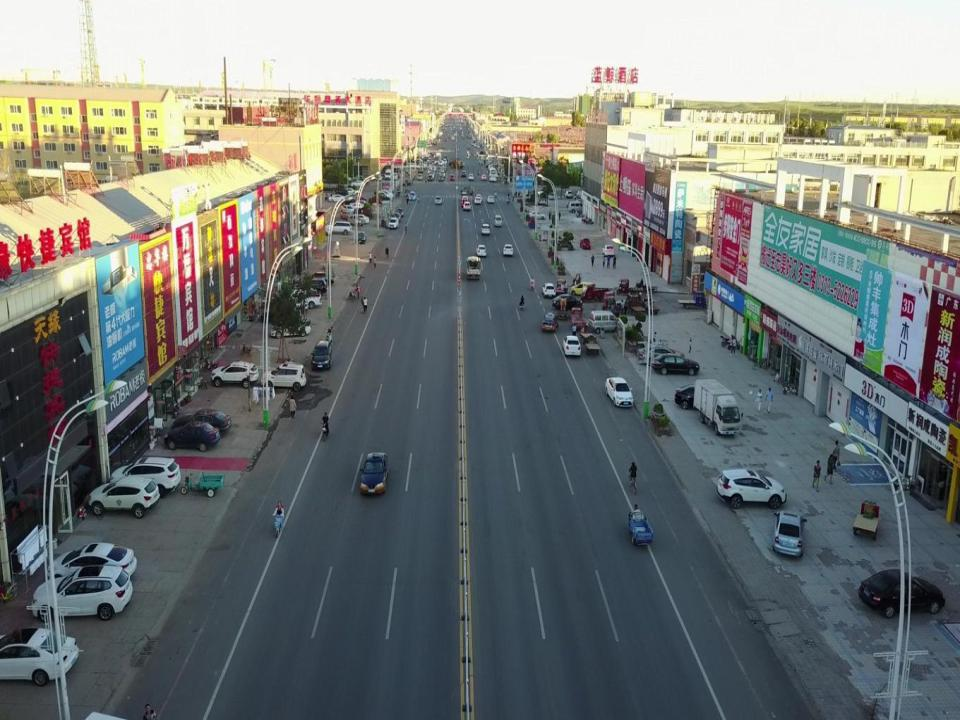bus: (536, 190, 546, 204), (489, 166, 496, 182)
car: (30, 565, 134, 621), (0, 626, 79, 686), (858, 568, 946, 618), (48, 542, 137, 584), (86, 474, 160, 518), (108, 455, 183, 497), (717, 468, 788, 510), (171, 408, 233, 438), (163, 420, 221, 452), (772, 510, 808, 557), (260, 362, 306, 392), (359, 451, 388, 498), (211, 360, 259, 388), (674, 384, 726, 409), (652, 353, 700, 375), (636, 345, 684, 366), (605, 376, 635, 408), (269, 319, 311, 337), (310, 341, 331, 371), (298, 278, 327, 296), (561, 335, 581, 357), (552, 294, 583, 308), (303, 271, 335, 284), (570, 282, 595, 296), (541, 313, 558, 333), (326, 222, 352, 234), (542, 282, 556, 298), (602, 244, 616, 258), (349, 202, 366, 213), (351, 214, 369, 224), (527, 210, 546, 219), (332, 189, 348, 199), (355, 230, 366, 244), (579, 238, 591, 250), (502, 245, 514, 257), (328, 194, 344, 203), (376, 194, 392, 203), (476, 244, 486, 258), (339, 210, 353, 220), (351, 195, 368, 203), (461, 185, 474, 195), (341, 204, 354, 214), (388, 218, 398, 230), (349, 180, 365, 187), (481, 224, 490, 236), (392, 212, 401, 223), (463, 201, 471, 212), (408, 190, 416, 201), (564, 190, 573, 199), (547, 191, 555, 201), (396, 207, 404, 217), (402, 179, 413, 186), (434, 196, 442, 204), (517, 195, 525, 202), (474, 197, 482, 204), (376, 174, 384, 181), (487, 196, 494, 203), (475, 194, 482, 201), (462, 199, 468, 207), (449, 174, 455, 181), (438, 175, 444, 182), (427, 174, 433, 181), (468, 174, 474, 180), (417, 173, 422, 180), (482, 174, 486, 180)
truck: (692, 377, 744, 436), (291, 289, 322, 309), (466, 255, 481, 280), (347, 214, 366, 227)
van: (588, 310, 620, 333), (568, 200, 585, 212), (494, 214, 502, 227), (384, 168, 392, 180), (462, 196, 467, 205), (392, 172, 397, 181), (461, 170, 466, 177)
